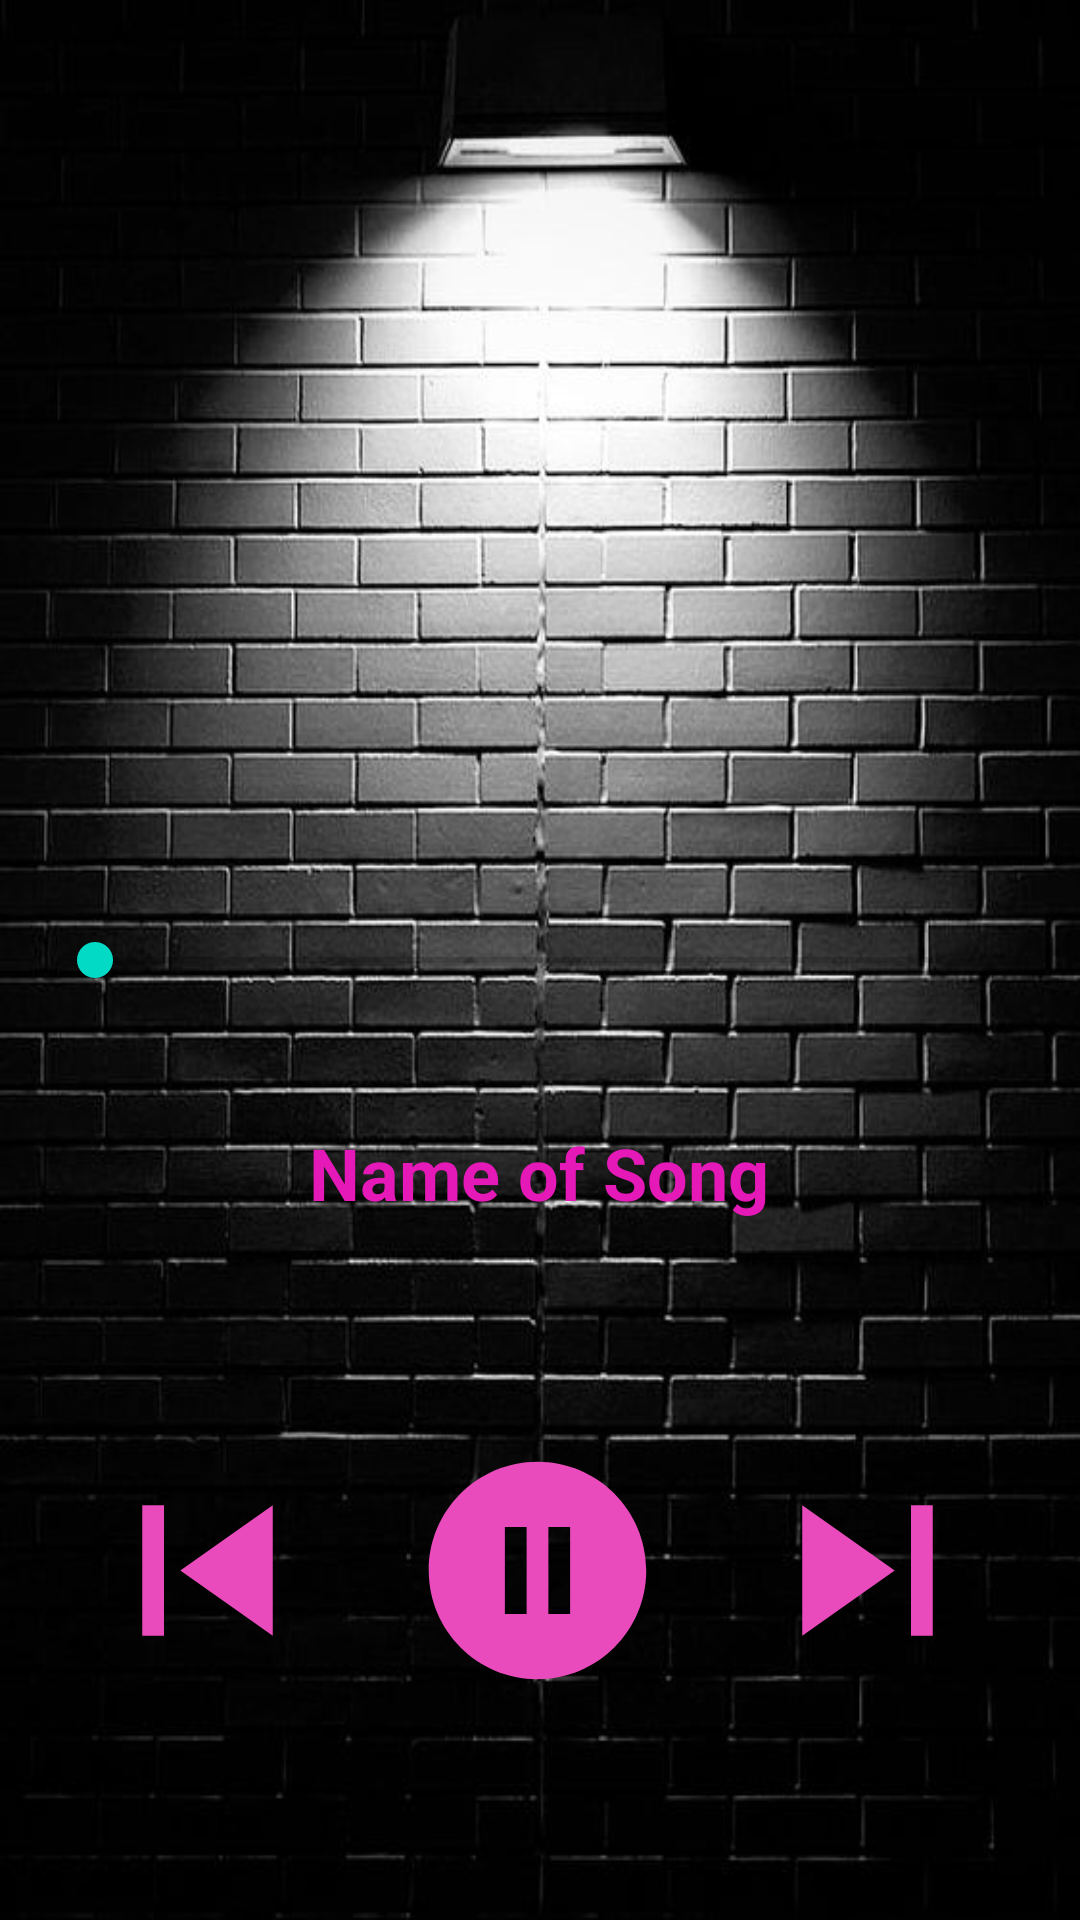

Locate icon controls on the screen. Image size 1080w x 1920h, boxes as {"x1": x1, "y1": y1, "x2": x2, "y2": y2}.
next: {"x1": 729, "y1": 1445, "x2": 1013, "y2": 1681}
pause: {"x1": 372, "y1": 1440, "x2": 702, "y2": 1701}
previous: {"x1": 90, "y1": 1440, "x2": 366, "y2": 1681}
